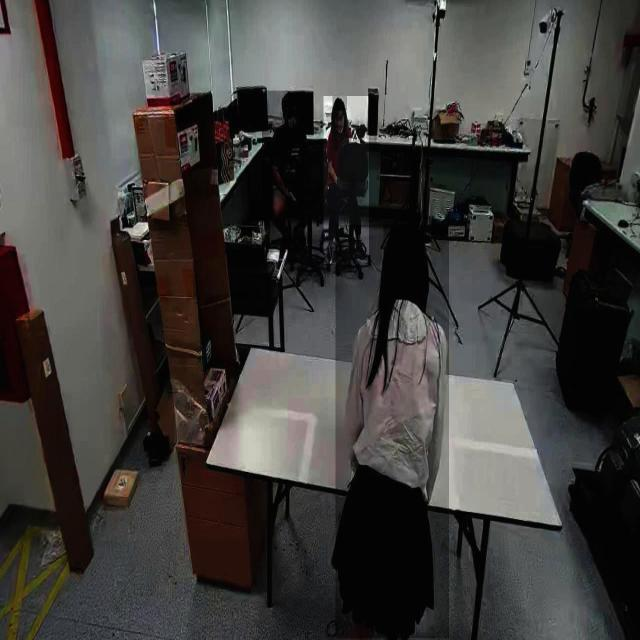face_mask: (286, 109, 298, 137)
face_nomask: (335, 113, 345, 132)
head_nohelmet: (383, 224, 426, 265), (332, 96, 347, 111), (282, 91, 298, 105)
person: (335, 225, 449, 639), (323, 96, 369, 265), (261, 91, 305, 253)
